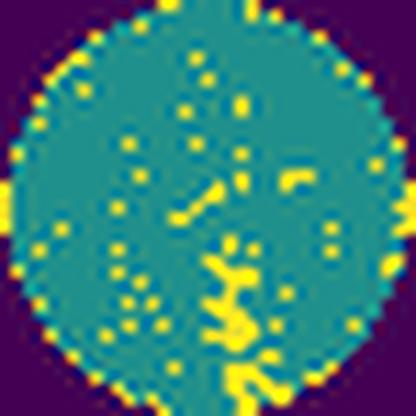Loc: (203, 252, 261, 350), (220, 358, 290, 414)
